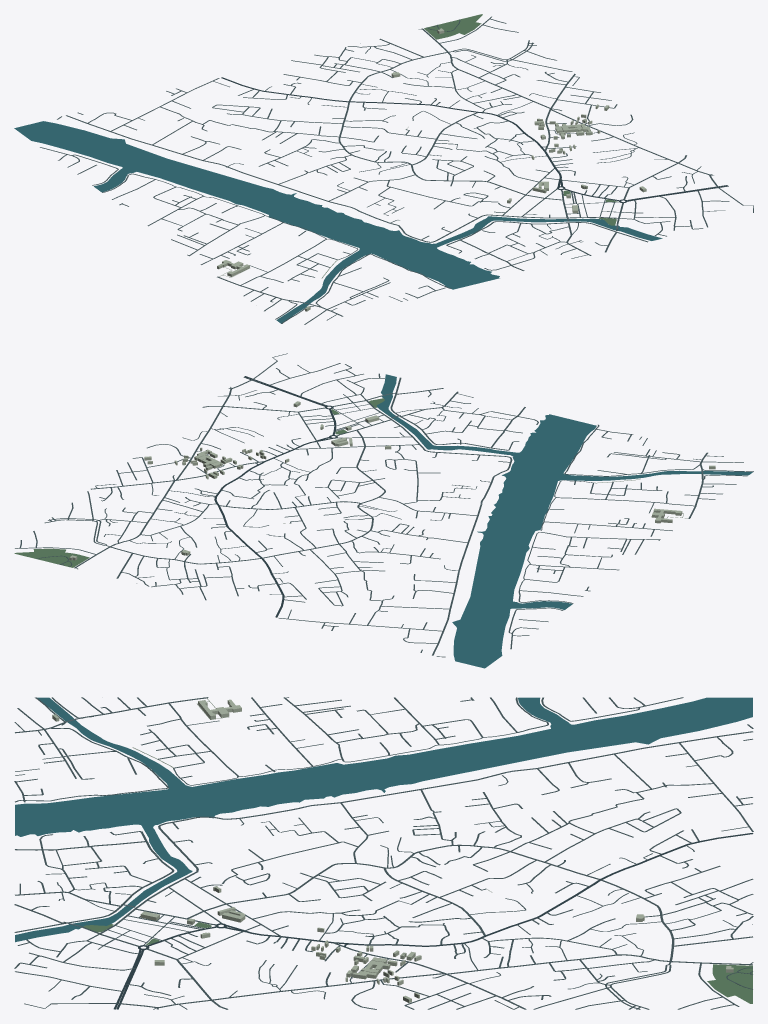
The picture shows the model from 3 angles, top to bottom: view 1: azimuth 30°, elevation 25°; view 2: azimuth 150°, elevation 25°; view 3: azimuth 270°, elevation 25°; orthographic projection. The views are drawn at different scales.
Visible parts, largest first — view 1: street, water, building, major, green; view 2: street, water, building, major, green; view 3: water, street, building, major, green.
Part boxes in pixels (x1=…): street: x1=40, y1=16, x2=753, y2=324; water: x1=14, y1=121, x2=662, y2=323; building: x1=217, y1=28, x2=646, y2=311; major: x1=221, y1=77, x2=728, y2=202; green: x1=424, y1=14, x2=618, y2=225; street: x1=15, y1=353, x2=753, y2=657; water: x1=376, y1=374, x2=752, y2=668; building: x1=69, y1=401, x2=715, y2=560; major: x1=214, y1=376, x2=337, y2=617; green: x1=14, y1=398, x2=384, y2=567; water: x1=15, y1=697, x2=752, y2=942; street: x1=14, y1=697, x2=753, y2=1009; building: x1=52, y1=699, x2=733, y2=1002; major: x1=113, y1=833, x2=753, y2=1009; green: x1=83, y1=922, x2=752, y2=1003.
Bounding box in the file's own units: 2005 × 15.5 × 2005.
